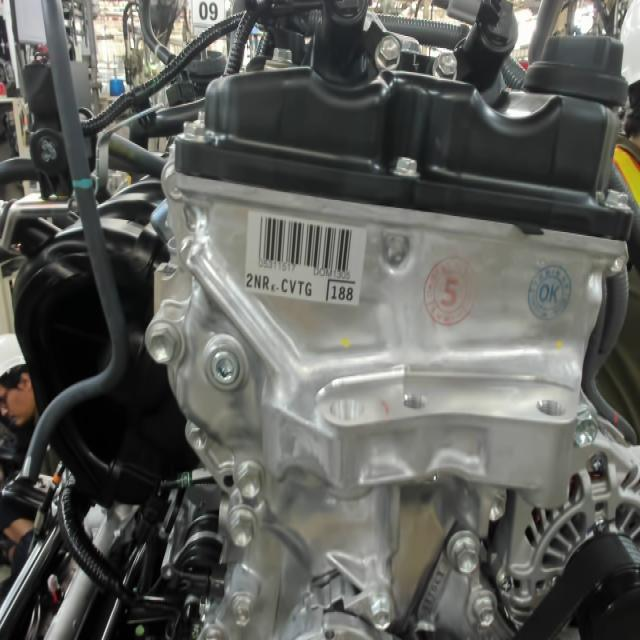Engine Assy-188: (324, 279, 361, 312)
Hose Canister-HJ: (69, 176, 99, 195)
